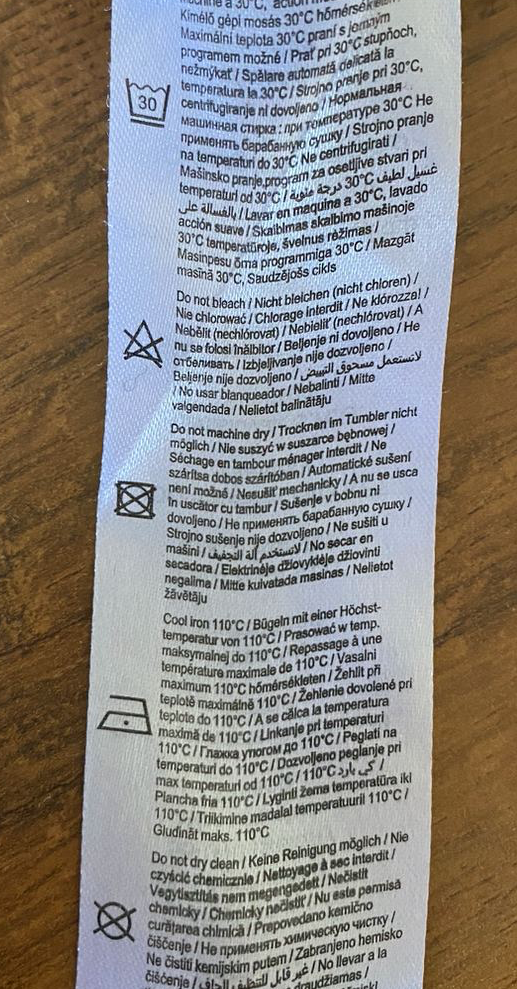do_not_bleach: (120, 317, 166, 370)
do_not_dry_clean: (88, 896, 140, 944)
do_not_tumble_drying: (113, 477, 160, 521)
ironing_at_low_temp: (97, 694, 154, 739)
wash_at_or_below_30_mild_fine_wash: (123, 79, 174, 128)
